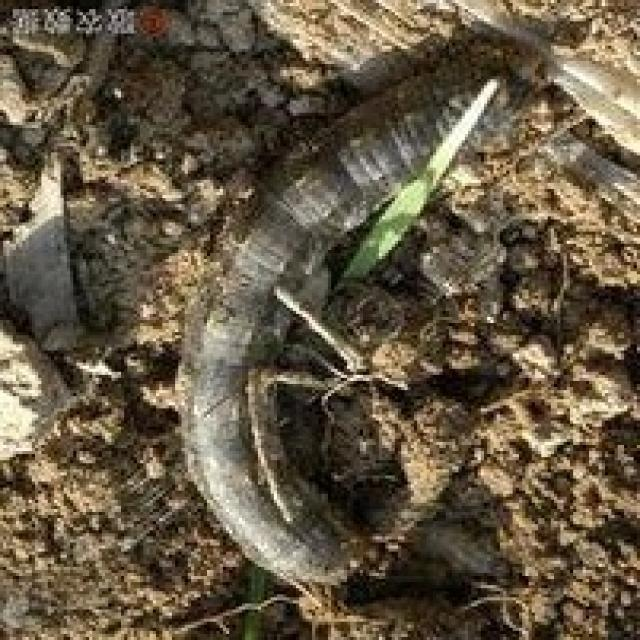black cutworm: (157, 53, 539, 601)
